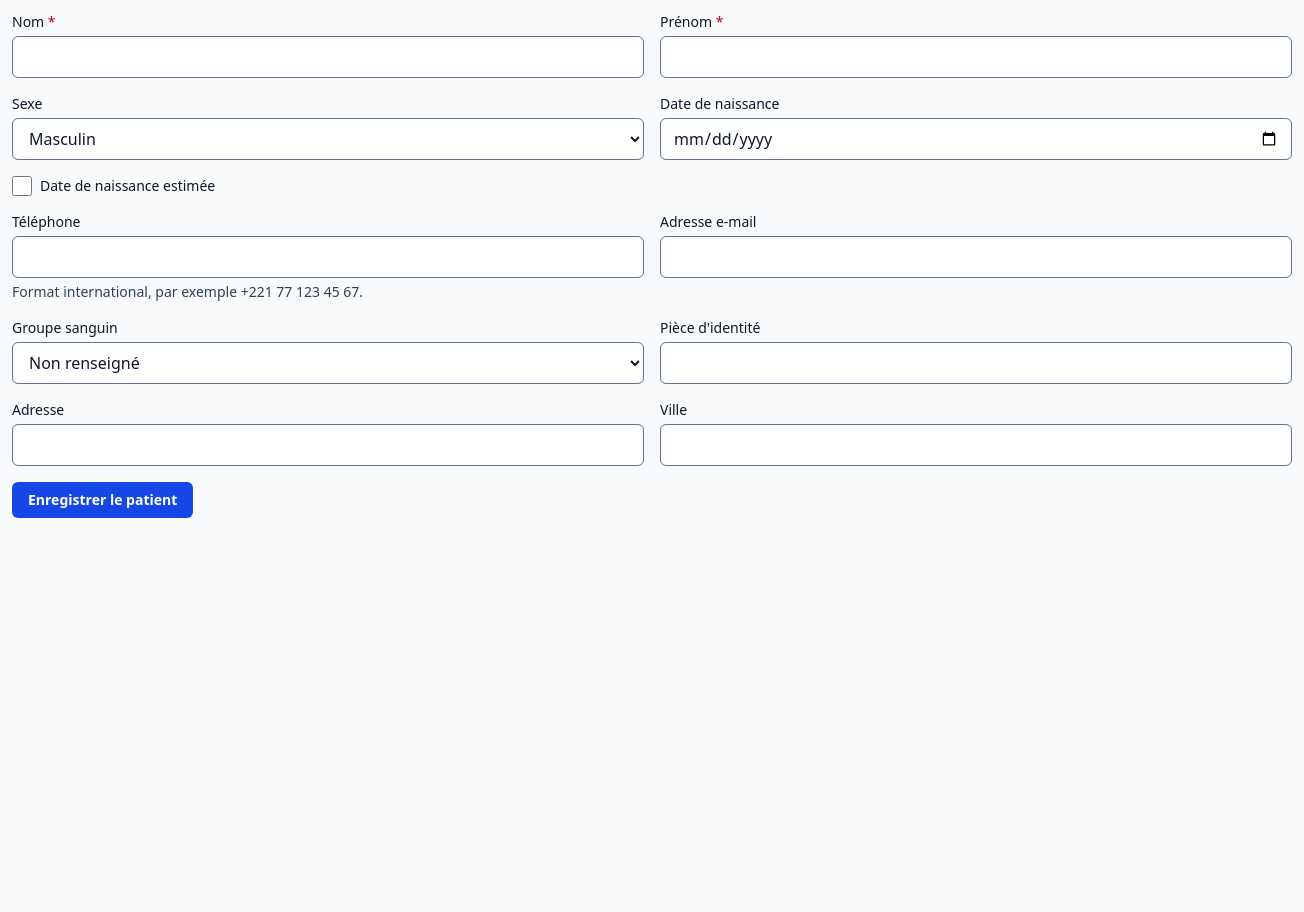
Test: PatientForm › montre les erreurs 422 par champ et conserve les valeurs saisies
Click the button "Enregistrer le patient" at [103, 500], box [12,482,193,518]
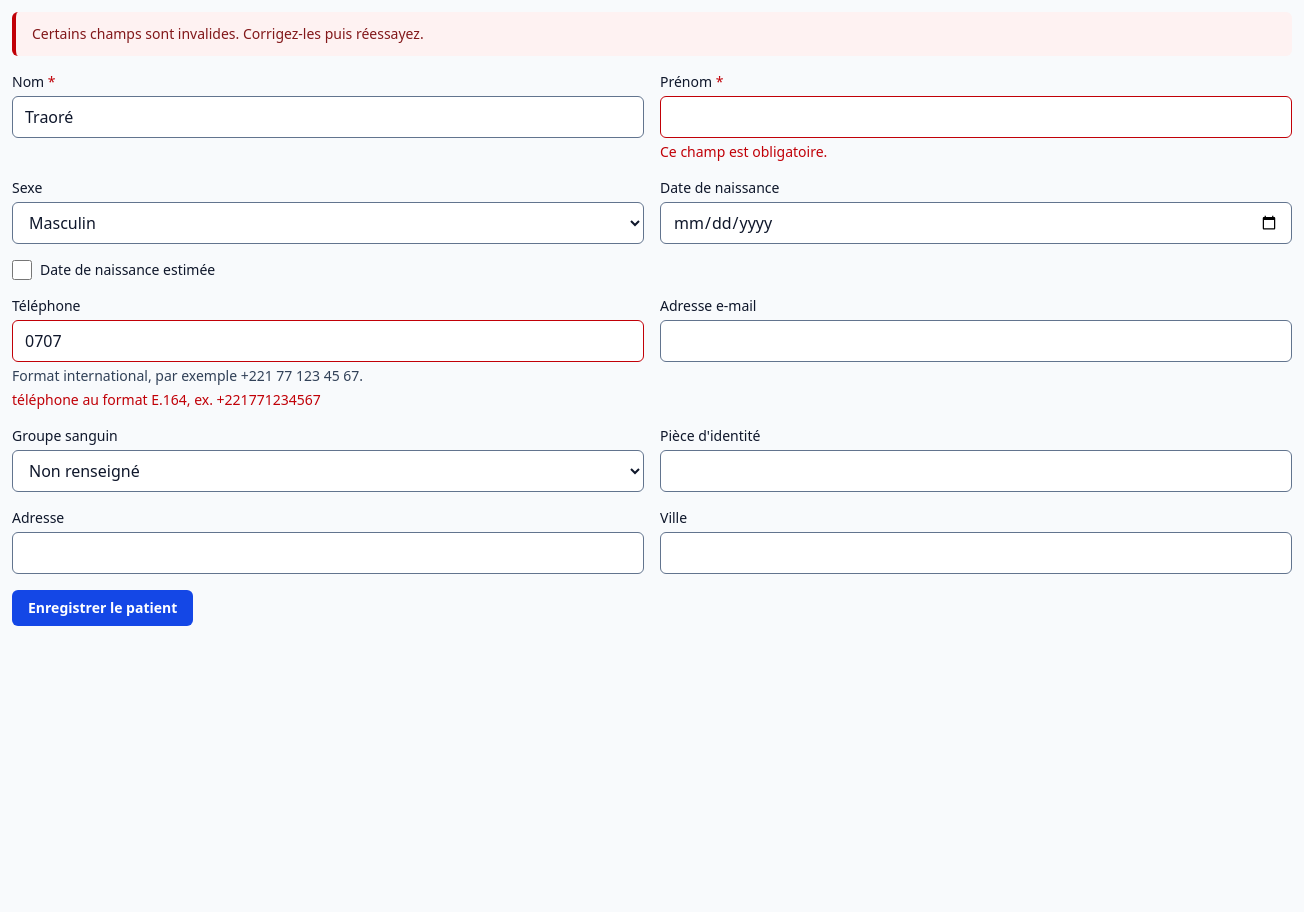
Now the message shows "Certains champs sont invalides", box [32,24,424,43]
Now the field labelled "Nom *" holds "Traoré", box [12,96,644,138]
